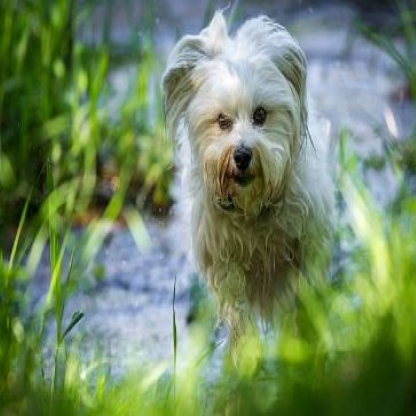maltese: (162, 9, 335, 311)
